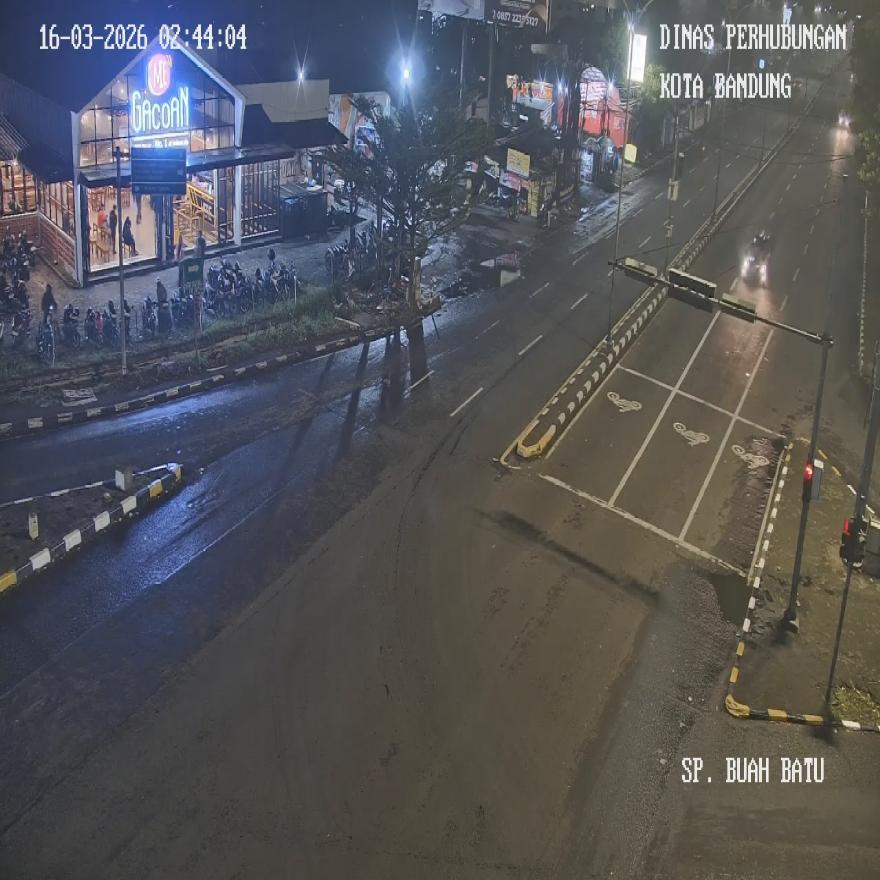Truk: (36, 306, 54, 364), (10, 304, 32, 348), (61, 303, 82, 348), (140, 294, 157, 339), (84, 306, 102, 344)
